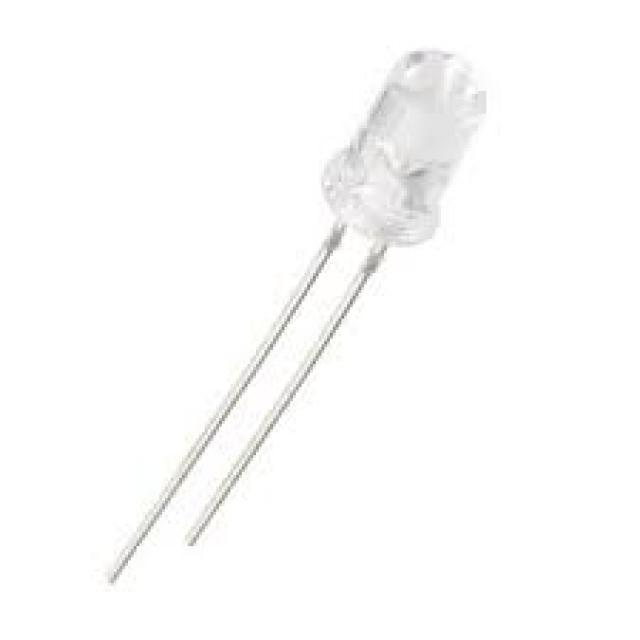Led: (111, 50, 485, 581)
